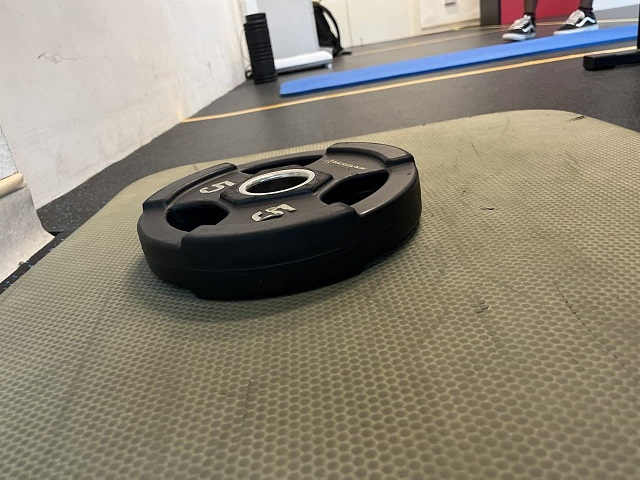weights: (131, 138, 427, 304)
